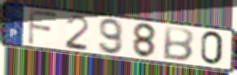0: (200, 31, 225, 67)
2: (64, 14, 91, 52)
8: (131, 22, 158, 60)
9: (98, 17, 124, 56)
B: (161, 25, 196, 63)
F: (26, 8, 60, 47)
